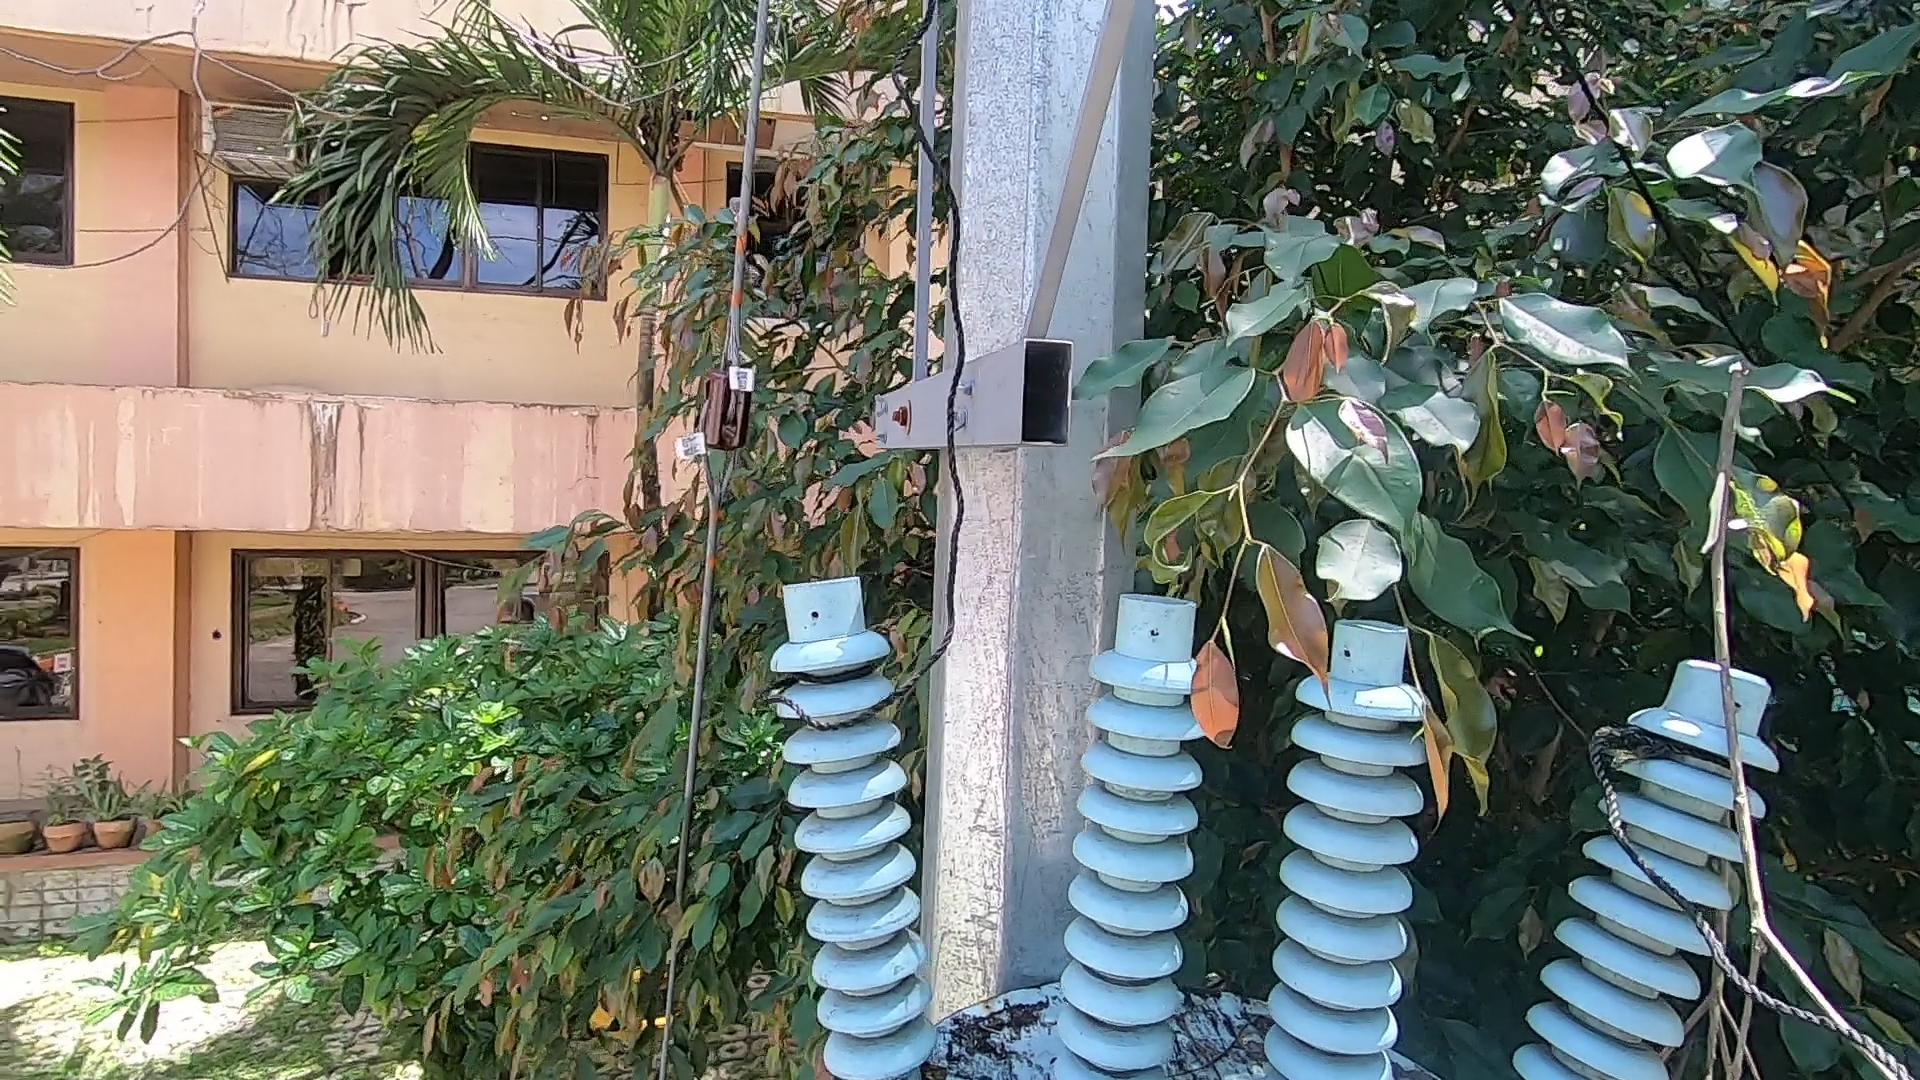tree branch: (1673, 342, 1916, 1077), (1167, 1013, 1261, 1069)
